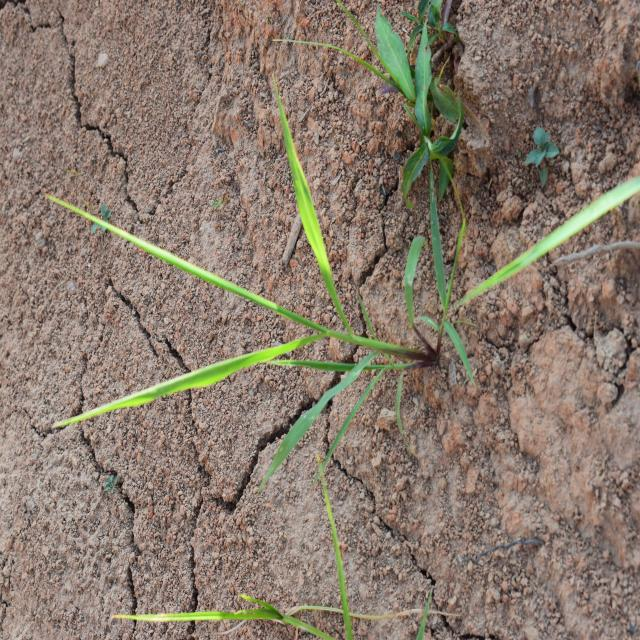green_foxtail: (58, 185, 500, 420)
